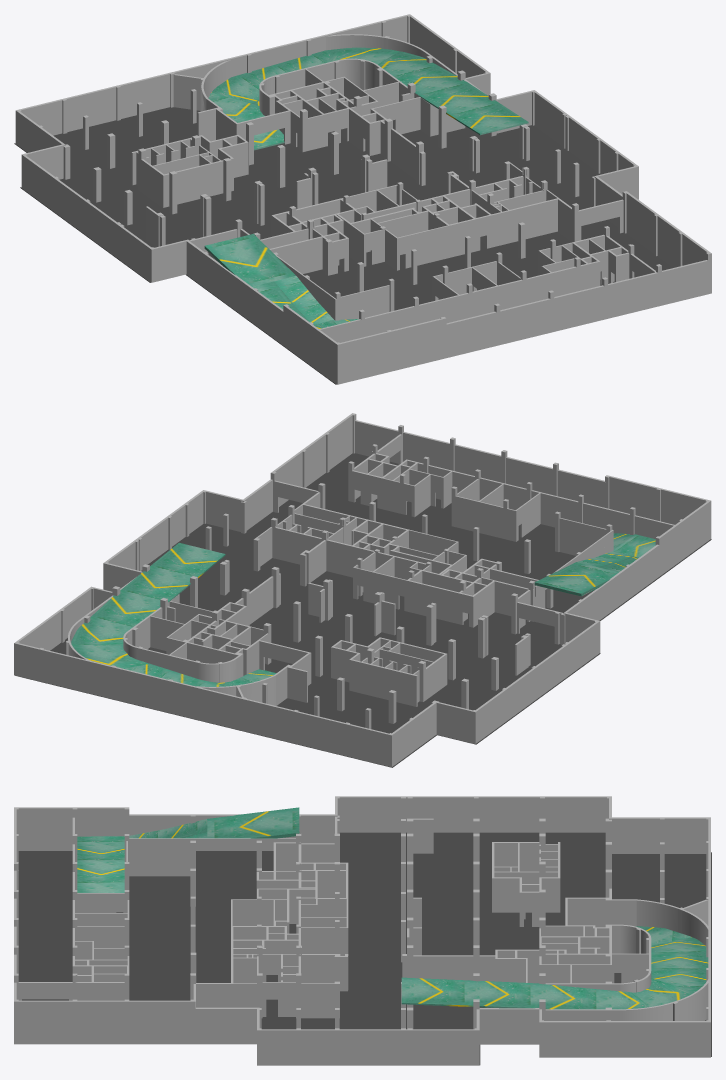
The picture shows the model from 3 angles, top to bottom: view 1: azimuth 30°, elevation 25°; view 2: azimuth 150°, elevation 25°; view 3: azimuth 270°, elevation 25°; orthographic projection. The views are drawn at different scales.
Parts seen in each view (by area): view 1: LC_F1F_qiang, LC_F1F_diban, LC_F1F_xiapo; view 2: LC_F1F_qiang, LC_F1F_diban, LC_F1F_xiapo; view 3: LC_F1F_qiang, LC_F1F_diban, LC_F1F_xiapo.
Part boxes in pixels (<box>): LC_F1F_qiang: <box>15,14,711,384</box>; LC_F1F_diban: <box>14,107,673,384</box>; LC_F1F_xiapo: <box>204,47,528,328</box>; LC_F1F_qiang: <box>14,413,711,767</box>; LC_F1F_diban: <box>14,453,711,767</box>; LC_F1F_xiapo: <box>71,533,655,686</box>; LC_F1F_qiang: <box>14,796,710,1065</box>; LC_F1F_diban: <box>18,832,711,1064</box>; LC_F1F_xiapo: <box>77,807,708,1009</box>.
Size of the model in its own units: 70487 by 6086 by 88617.
Materials: 3 (1 with a texture image).
